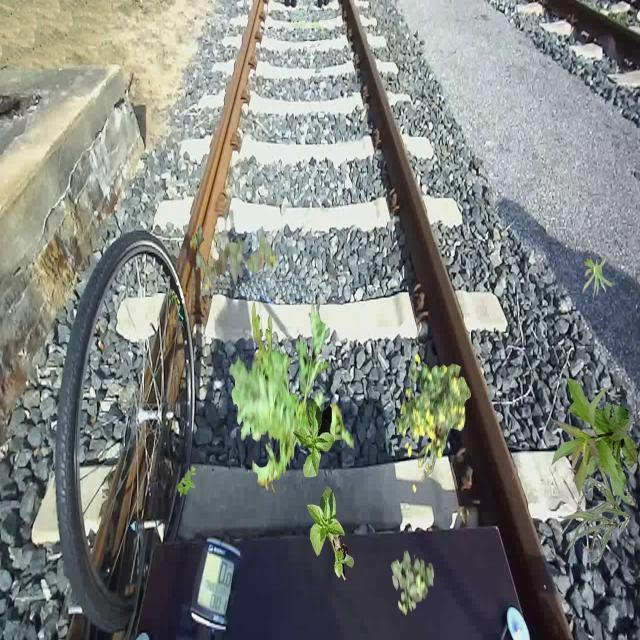Plant: (229, 299, 354, 495), (550, 377, 638, 507), (397, 353, 472, 493), (558, 438, 631, 562), (190, 224, 276, 292), (307, 486, 355, 581), (293, 398, 335, 478), (391, 550, 434, 616), (582, 255, 614, 301), (177, 466, 197, 498)
